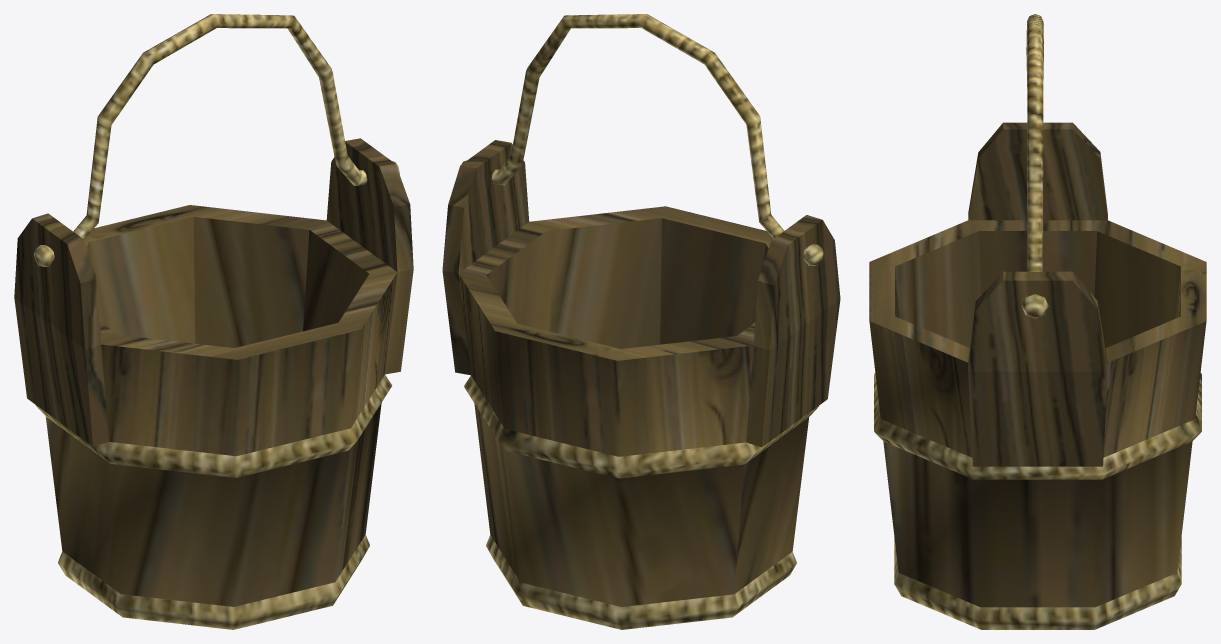
File: bucketNew.fbx
The picture shows the model from 3 angles, left to right: view 1: azimuth 30°, elevation 25°; view 2: azimuth 150°, elevation 25°; view 3: azimuth 270°, elevation 25°; orthographic projection.
Parts seen in each view (by area): view 1: pCylinder12, pCylinder13; view 2: pCylinder12, pCylinder13; view 3: pCylinder12, pCylinder13.
Part boxes in pixels (x1,y1,x2,y2): pCylinder12: [14, 138, 413, 629]; pCylinder13: [34, 14, 399, 266]; pCylinder12: [442, 140, 840, 629]; pCylinder13: [461, 14, 823, 265]; pCylinder12: [869, 122, 1206, 629]; pCylinder13: [1021, 14, 1048, 318].
Bounding box in the file's own units: 0.4106 × 0.6012 × 0.3361.
